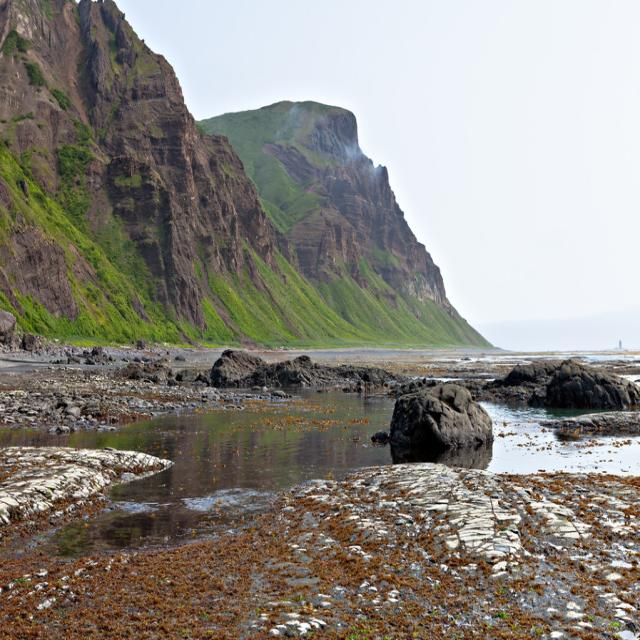reef: (363, 356, 617, 507)
